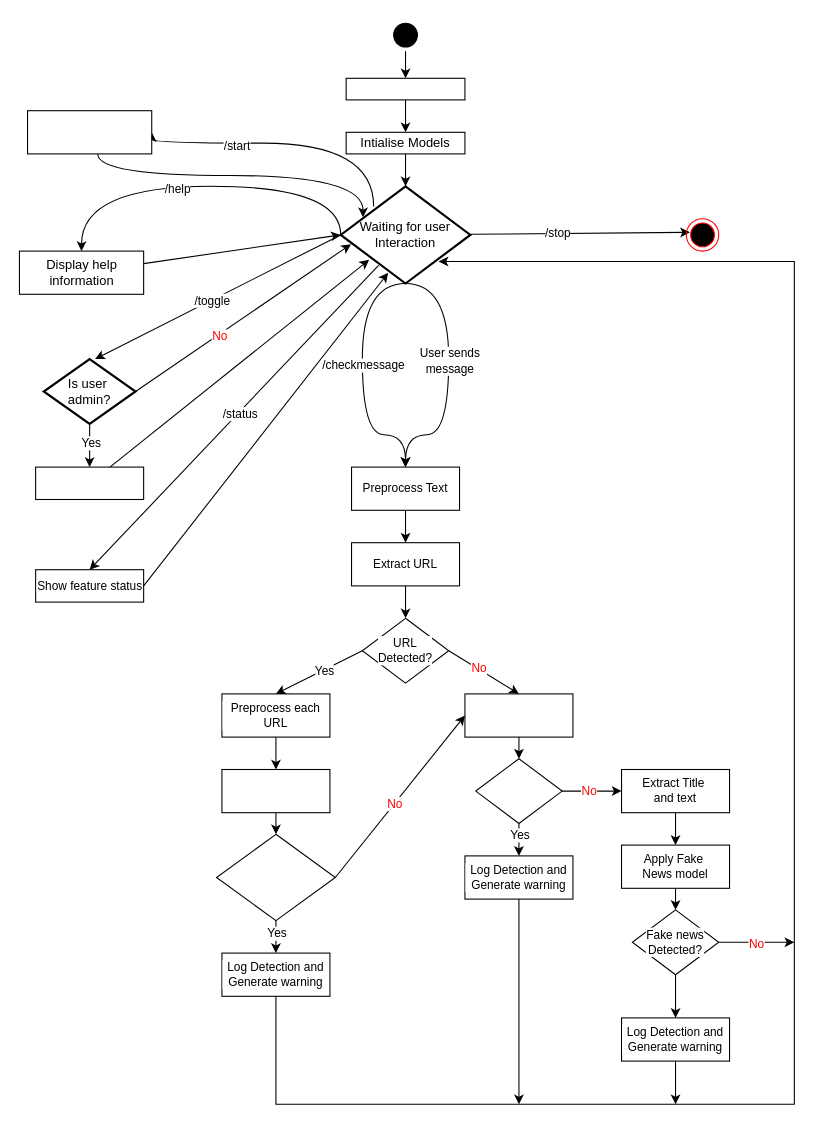
The diagram is 822 pixels wide and 1132 high, and some of its shapes have lost their labels. Each missing label, with the centre of its shape:
Accept command: [89,483]
Apply Link Model: [275,790]
Apply Spam Model: [518,715]
Generate Welcome message: [89,132]
Malicious Link Detected?: [275,877]
Spam Detected?: [518,791]
Start Bot: [405,88]
